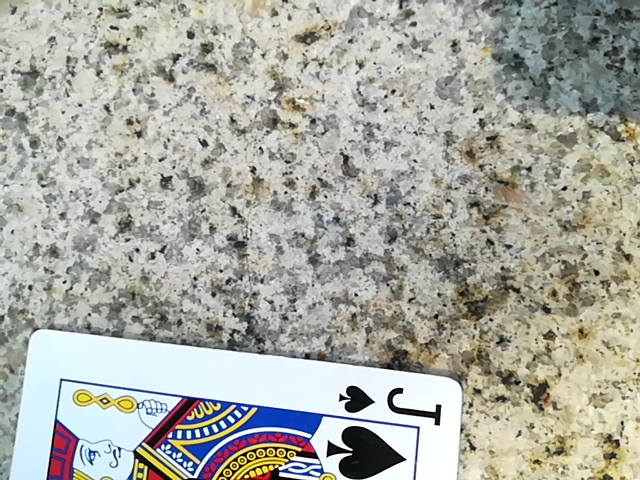ht j: (0, 331, 466, 480)
